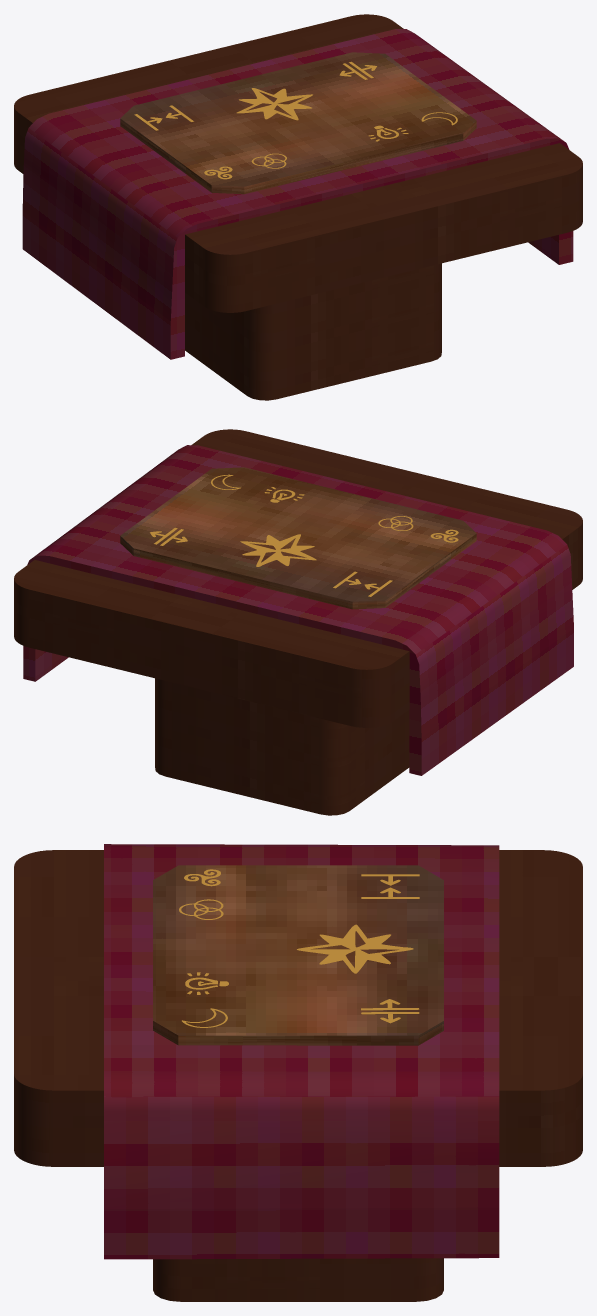
The model's file is ouija_board.glb.
3 renders of one model, top to bottom at view 1: azimuth 30°, elevation 25°; view 2: azimuth 150°, elevation 25°; view 3: azimuth 270°, elevation 25°, orthographic. The views are drawn at different scales.
Parts seen in each view (by area): view 1: table_ouija, tapis_table, Ouijaboard, Texte_ouija.001; view 2: table_ouija, tapis_table, Ouijaboard, Texte_ouija.001; view 3: tapis_table, table_ouija, Ouijaboard, Texte_ouija.001.
Boxes of the visible parts, x1,y1,x2,y2 form: table_ouija: [14, 14, 582, 400]; tapis_table: [22, 29, 573, 359]; Ouijaboard: [120, 52, 476, 194]; Texte_ouija.001: [134, 61, 457, 179]; table_ouija: [14, 429, 582, 815]; tapis_table: [23, 445, 573, 775]; Ouijaboard: [120, 467, 476, 609]; Texte_ouija.001: [150, 474, 458, 596]; tapis_table: [104, 844, 499, 1259]; table_ouija: [14, 850, 582, 1301]; Ouijaboard: [153, 865, 443, 1045]; Texte_ouija.001: [179, 869, 419, 1027].
Size of the model in its own units: 1.36 by 0.7113 by 1.27.
6 materials, 6 textured.
